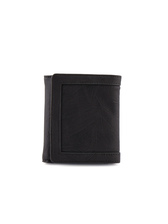other: (42, 73, 124, 170)
